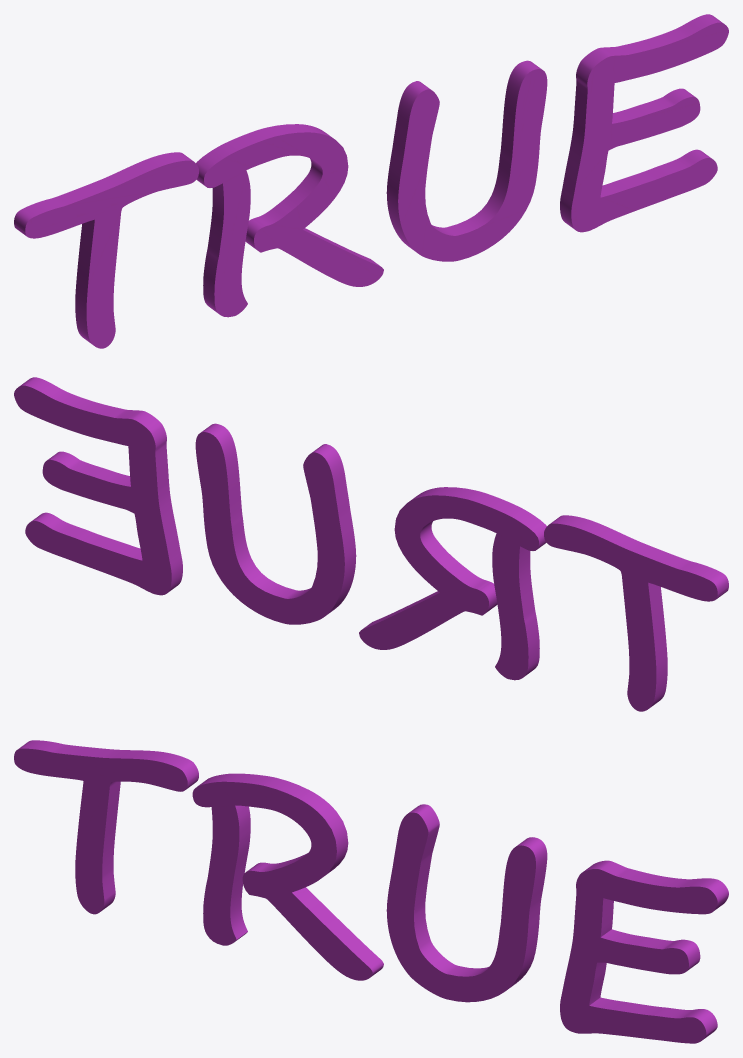
Rendered from true.fbx.
3 views of the same model, one above another, from view 1: azimuth 30°, elevation 25°; view 2: azimuth 150°, elevation 25°; view 3: azimuth 330°, elevation 25° (orthographic).
Parts seen in each view (by area): view 1: node_id210; view 2: node_id210; view 3: node_id210.
Part boxes in pixels (left/top/right/bottom): node_id210: left=14, top=14, right=728, bottom=348; node_id210: left=14, top=377, right=728, bottom=711; node_id210: left=14, top=740, right=728, bottom=1043.
Size of the model in its own units: 0.6729 by 0.1662 by 0.0188.
1 material, 1 textured.
